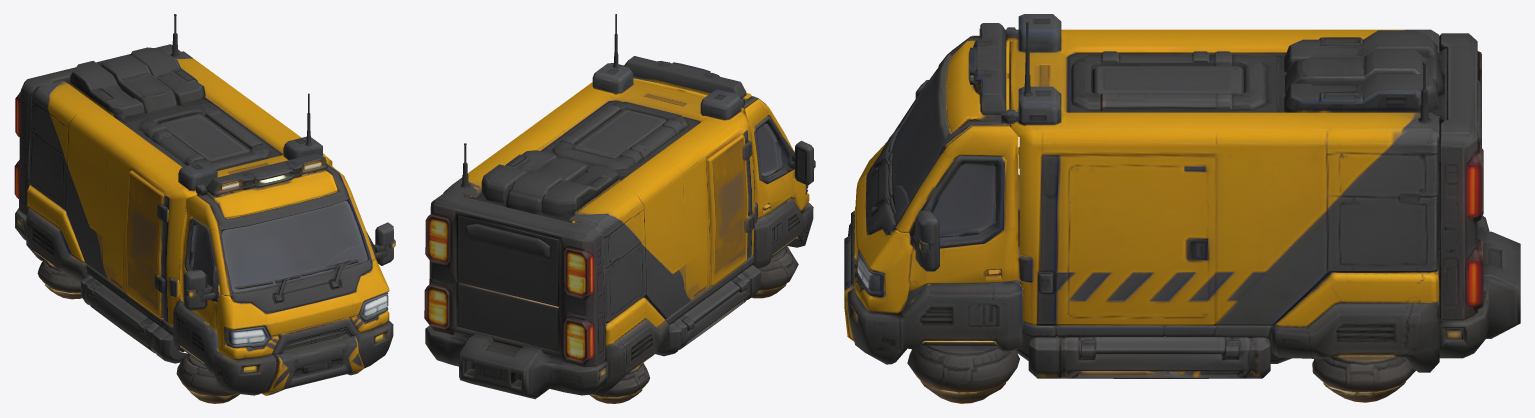
Rendered from car_van.glb.
3 views of the same model, side by side, from view 1: azimuth 30°, elevation 25°; view 2: azimuth 150°, elevation 25°; view 3: azimuth 270°, elevation 25° (orthographic). The views are drawn at different scales.
Visible parts, largest first — view 1: tripo_node_d871db75-bdcb-4d16-acc6-86064c1ec753; view 2: tripo_node_d871db75-bdcb-4d16-acc6-86064c1ec753; view 3: tripo_node_d871db75-bdcb-4d16-acc6-86064c1ec753.
Part boxes in pixels (x1,y1,x2,y2): tripo_node_d871db75-bdcb-4d16-acc6-86064c1ec753: (14, 14, 395, 403); tripo_node_d871db75-bdcb-4d16-acc6-86064c1ec753: (424, 14, 815, 403); tripo_node_d871db75-bdcb-4d16-acc6-86064c1ec753: (844, 14, 1520, 403).
Bounding box in the file's own units: 0.5044 × 0.5972 × 0.9995.
1 material, 1 textured.
